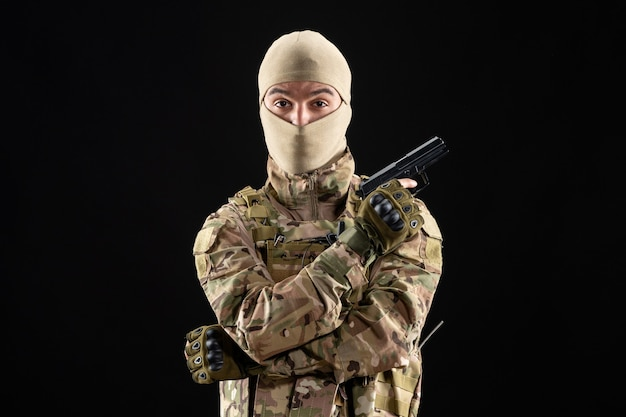gun: (354, 132, 448, 200)
